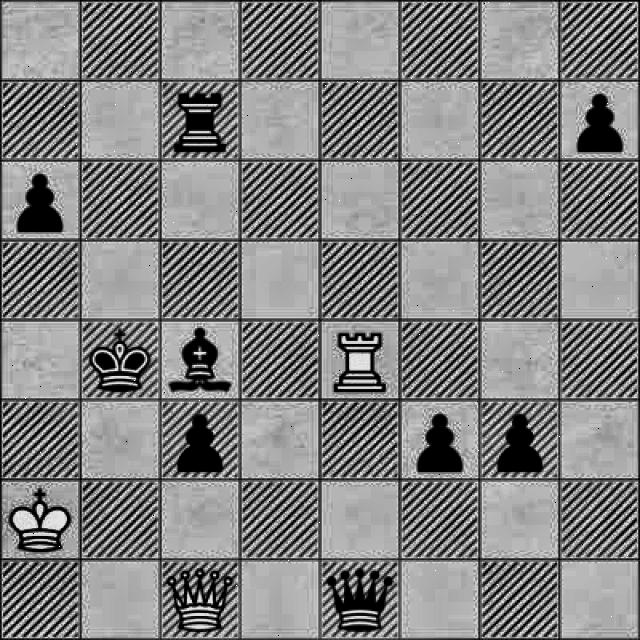black bishop: (163, 322, 233, 398)
black king: (83, 324, 153, 394)
black pawn: (3, 160, 78, 240), (164, 403, 233, 476), (490, 404, 554, 478), (568, 81, 628, 159), (408, 406, 472, 476)
black queen: (321, 566, 397, 636)
black rook: (168, 80, 234, 159)
white king: (5, 484, 72, 556)
white queen: (165, 564, 237, 638)
white rook: (330, 326, 384, 396)
